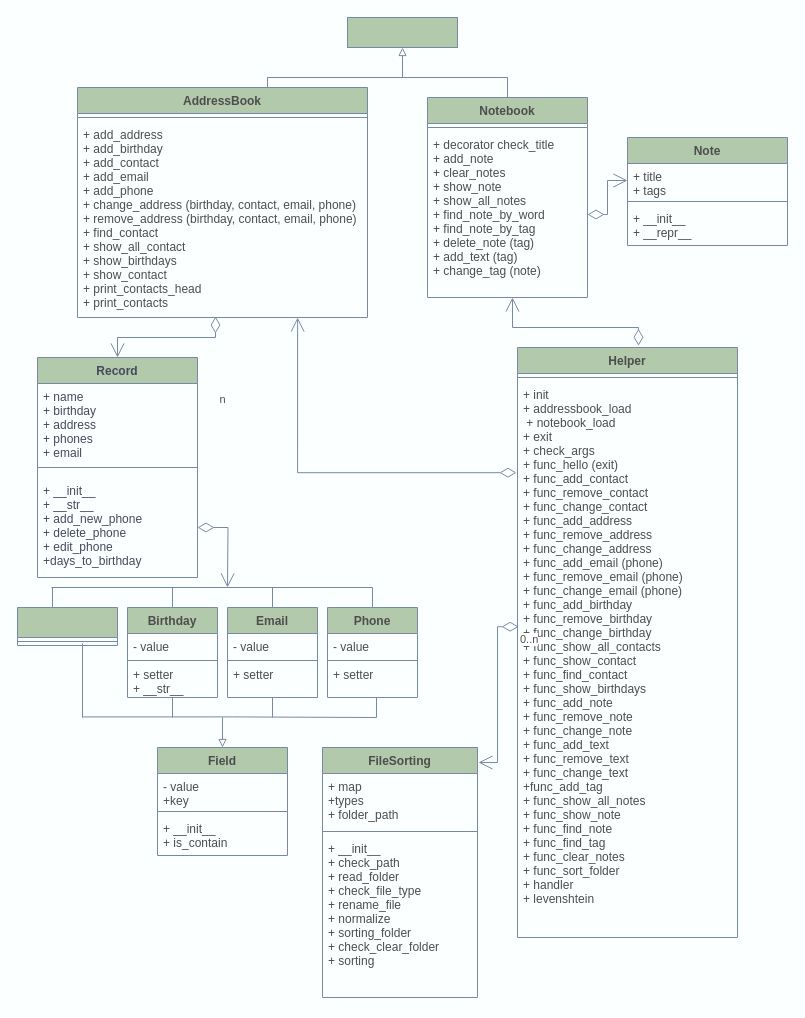
Some shapes in this 805 by 1018 pixel diagram are drawn without their labels. Here are the shapes that lost their labels. From the top down, the centre of each, then its label:
pixel 402 32: UserDict
pixel 67 626: Name
